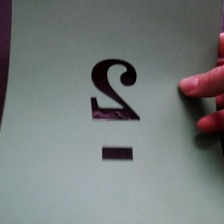green2: (89, 53, 146, 167)
